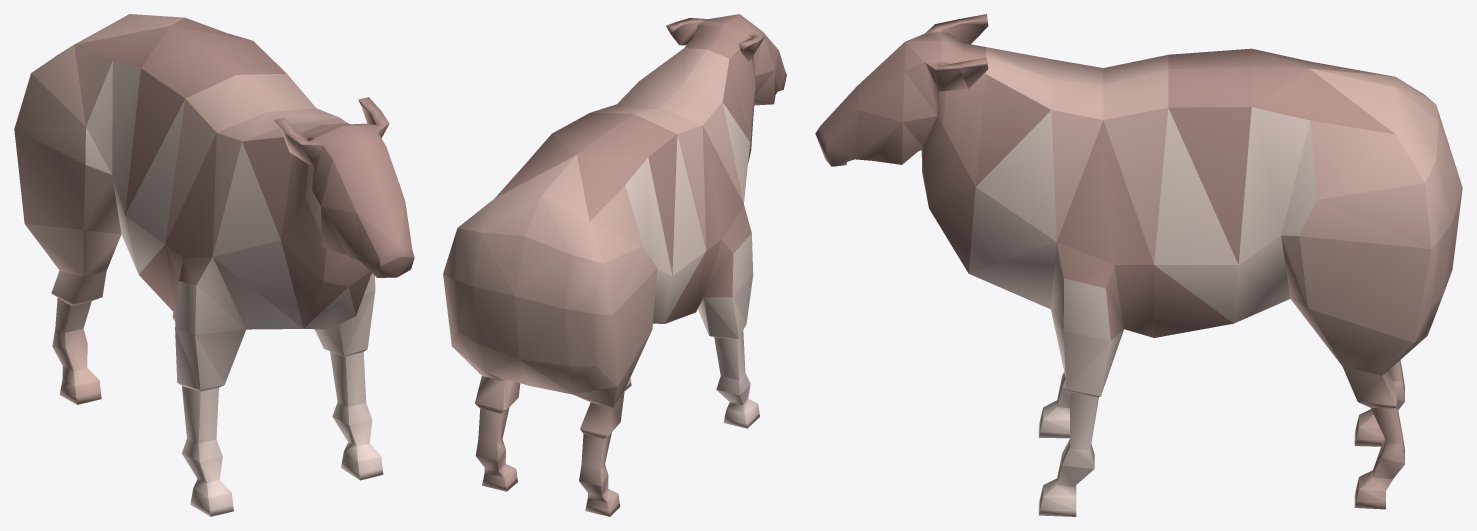
The model's file is agneau.glb.
The picture shows the model from 3 angles, left to right: view 1: azimuth 30°, elevation 25°; view 2: azimuth 150°, elevation 25°; view 3: azimuth 270°, elevation 25°; orthographic projection. The views are drawn at different scales.
Visible parts, largest first — view 1: Sheep; view 2: Sheep; view 3: Sheep.
Boxes of the visible parts, left/top/right/bottom form: Sheep: left=14, top=14, right=414, bottom=516; Sheep: left=443, top=14, right=786, bottom=516; Sheep: left=815, top=14, right=1462, bottom=516.
Size of the model in its own units: 2.22 by 4.36 by 5.92.
